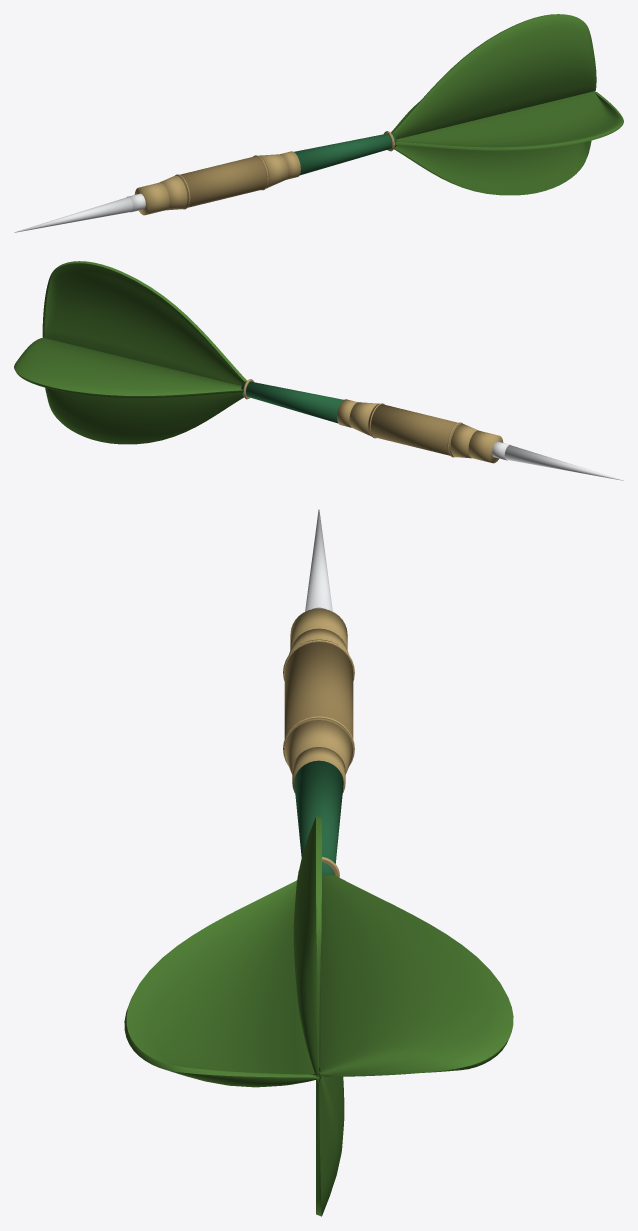
File: dart.glb
The picture shows the model from 3 angles, top to bottom: view 1: azimuth 30°, elevation 25°; view 2: azimuth 150°, elevation 25°; view 3: azimuth 270°, elevation 25°; orthographic projection. The views are drawn at different scales.
Visible parts, largest first — view 1: flight_90, flight_180, flight_270, grip, shaft, point, barrel_front, barrel_step, barrel_tail, barrel_back; view 2: flight_90, flight_0, flight_270, grip, shaft, point, barrel_front, barrel_step, barrel_tail, barrel_back; view 3: flight_0, flight_180, flight_90, grip, shaft, flight_270, barrel_tail, point, barrel_front.
Boxes of the visible parts, x1=… form: flight_90: x1=391, y1=14, x2=596, y2=139; flight_180: x1=395, y1=91, x2=623, y2=150; flight_270: x1=394, y1=140, x2=591, y2=195; grip: x1=176, y1=155, x2=269, y2=208; shaft: x1=294, y1=132, x2=396, y2=175; point: x1=14, y1=197, x2=133, y2=232; barrel_front: x1=134, y1=182, x2=169, y2=215; barrel_step: x1=159, y1=175, x2=187, y2=210; barrel_tail: x1=259, y1=154, x2=288, y2=188; barrel_back: x1=280, y1=151, x2=300, y2=179; flight_90: x1=42, y1=261, x2=246, y2=385; flight_0: x1=14, y1=337, x2=243, y2=398; flight_270: x1=45, y1=387, x2=243, y2=444; grip: x1=368, y1=403, x2=461, y2=456; shaft: x1=241, y1=381, x2=343, y2=423; point: x1=504, y1=445, x2=623, y2=480; barrel_front: x1=468, y1=430, x2=503, y2=463; barrel_step: x1=450, y1=423, x2=478, y2=458; barrel_tail: x1=349, y1=402, x2=378, y2=436; barrel_back: x1=337, y1=399, x2=357, y2=427; flight_0: x1=318, y1=875, x2=513, y2=1077; flight_180: x1=124, y1=880, x2=319, y2=1087; flight_90: x1=293, y1=816, x2=321, y2=1076; grip: x1=284, y1=639, x2=353, y2=749; shaft: x1=294, y1=760, x2=343, y2=875; flight_270: x1=316, y1=1075, x2=344, y2=1216; barrel_tail: x1=284, y1=720, x2=353, y2=774; point: x1=305, y1=509, x2=332, y2=611; barrel_front: x1=290, y1=608, x2=347, y2=649.
Size of the model in its own units: 0.1411 by 0.0409 by 0.0409.
